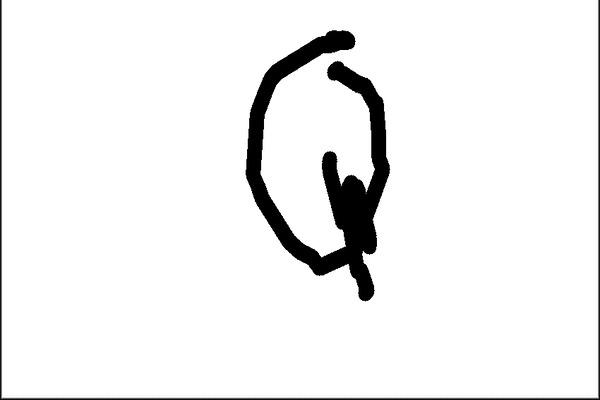Q: (231, 11, 399, 308)
